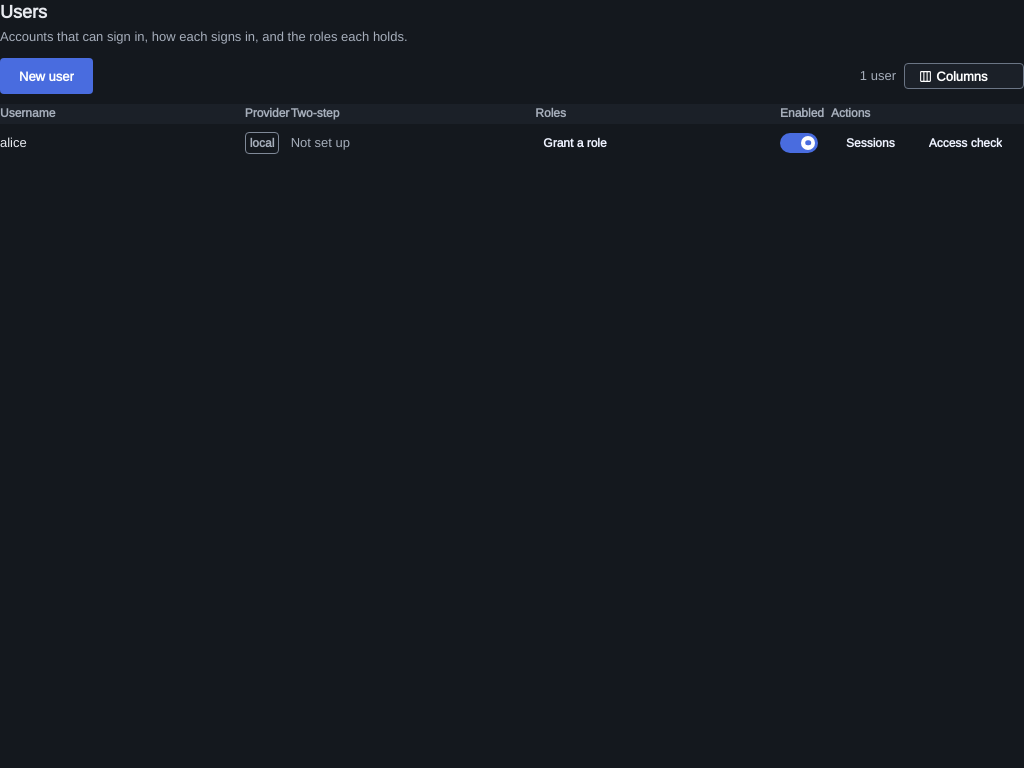
Test: the sessions drawer of a user › ends all of a user's sessions with one action and says how many
This screenshot has width=1024, height=768.
What coordinates should you click on to do the following:
click the button with aria-label "Sessions of alice"
I would click on:
 (870, 143)
Its box is [831,128,910,158].
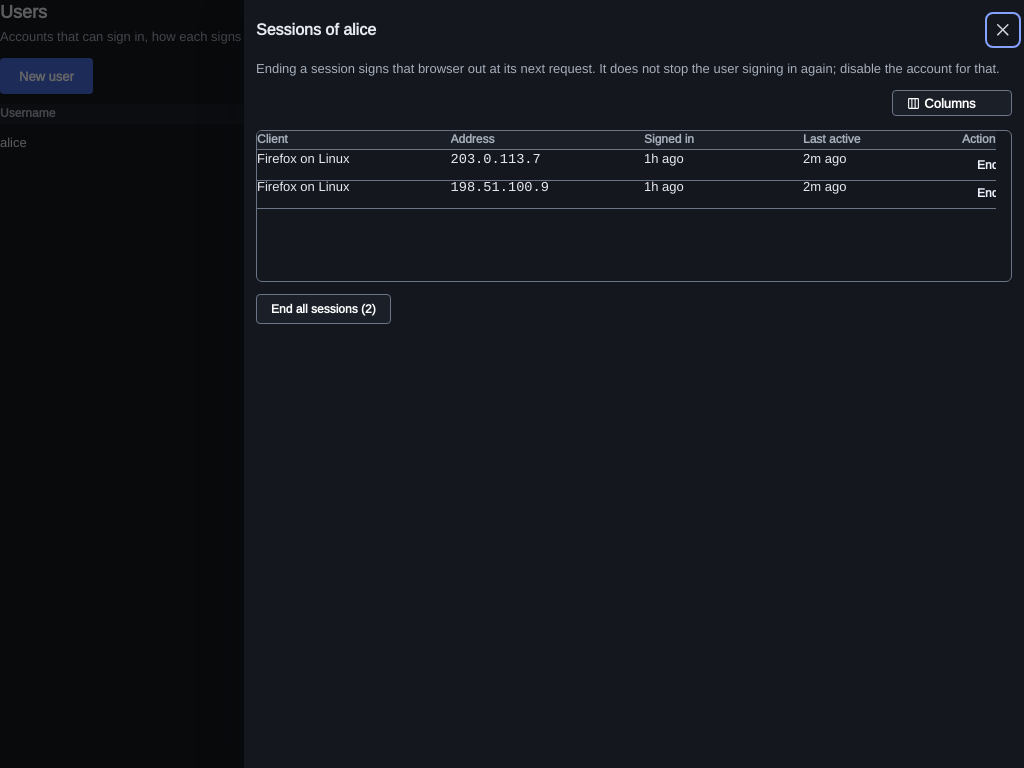
What coordinates should you click on to do the following:
click the button "End all sessions (2)"
I would click on:
 (323, 309)
Its box is [256,294,391,324].
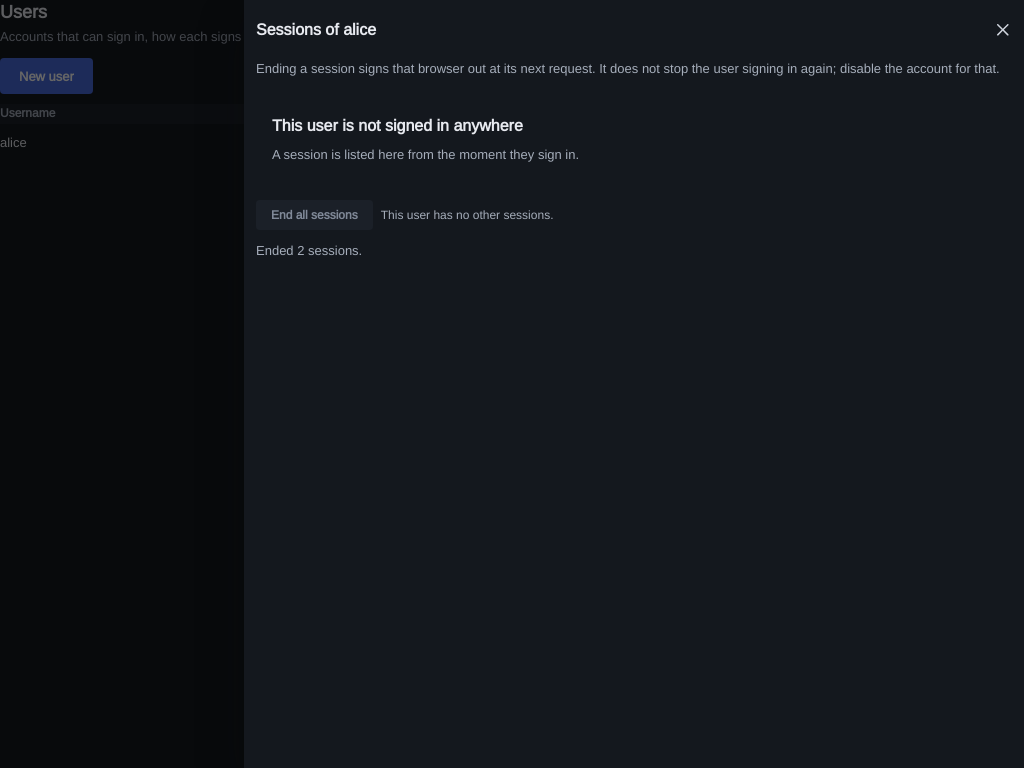
Now the text "Ended 2 sessions." is shown, box [256,242,362,261]
Now the text "This user is not signed in anywhere" is shown, box [272,114,523,138]
